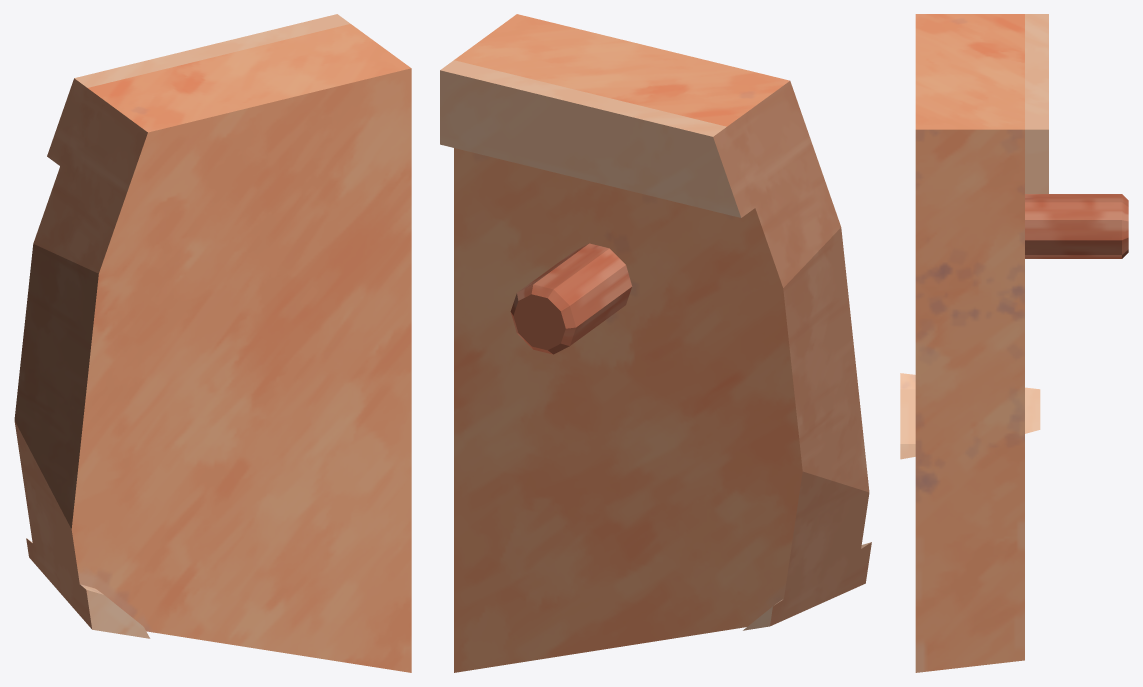
The model's file is wall2_upper_shutter_s01.fbx.
3 views of the same model, side by side, from view 1: azimuth 30°, elevation 25°; view 2: azimuth 150°, elevation 25°; view 3: azimuth 270°, elevation 25° (orthographic). The views are drawn at different scales.
Parts seen in each view (by area): view 1: wall2_upper_shutter_s01; view 2: wall2_upper_shutter_s01; view 3: wall2_upper_shutter_s01.
Part boxes in pixels (<box>): wall2_upper_shutter_s01: <box>14,14,411,672</box>; wall2_upper_shutter_s01: <box>440,14,871,672</box>; wall2_upper_shutter_s01: <box>900,14,1128,672</box>.
Bounding box in the file's own units: 3.23 × 5.49 × 2.09.
